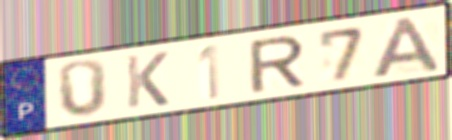0: (54, 58, 109, 121)
1: (197, 43, 221, 99)
7: (316, 23, 368, 83)
A: (369, 14, 444, 80)
K: (123, 49, 171, 110)
R: (246, 33, 307, 96)
